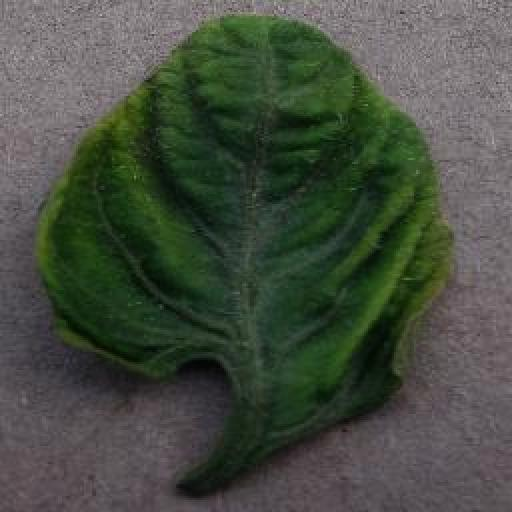disease_tomato: (31, 6, 463, 448)
